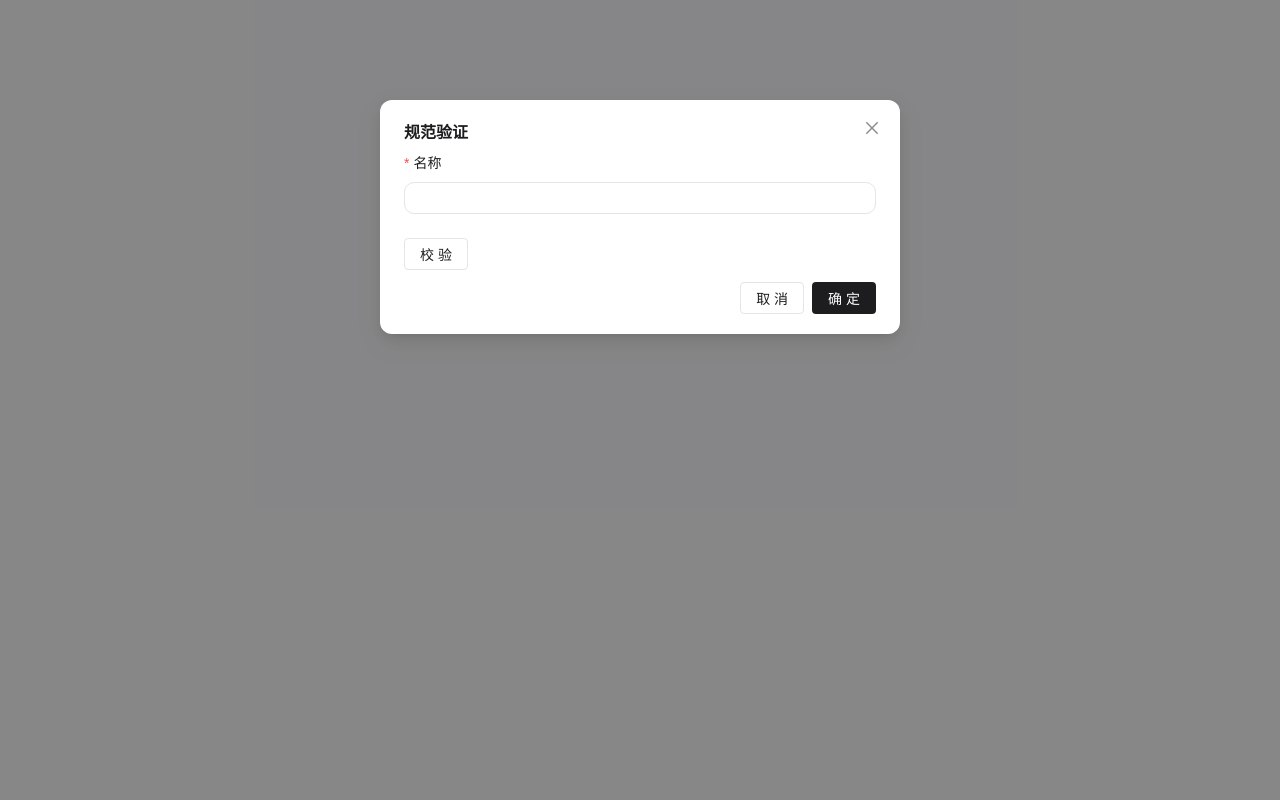
it: DesignSystemProvider › uses Chinese modal actions and field validation in portaled forms
Expected: the button "取 消" is shown, [740,282,804,314]
Click the button "校 验".
click(436, 254)  # box [404,238,468,270]
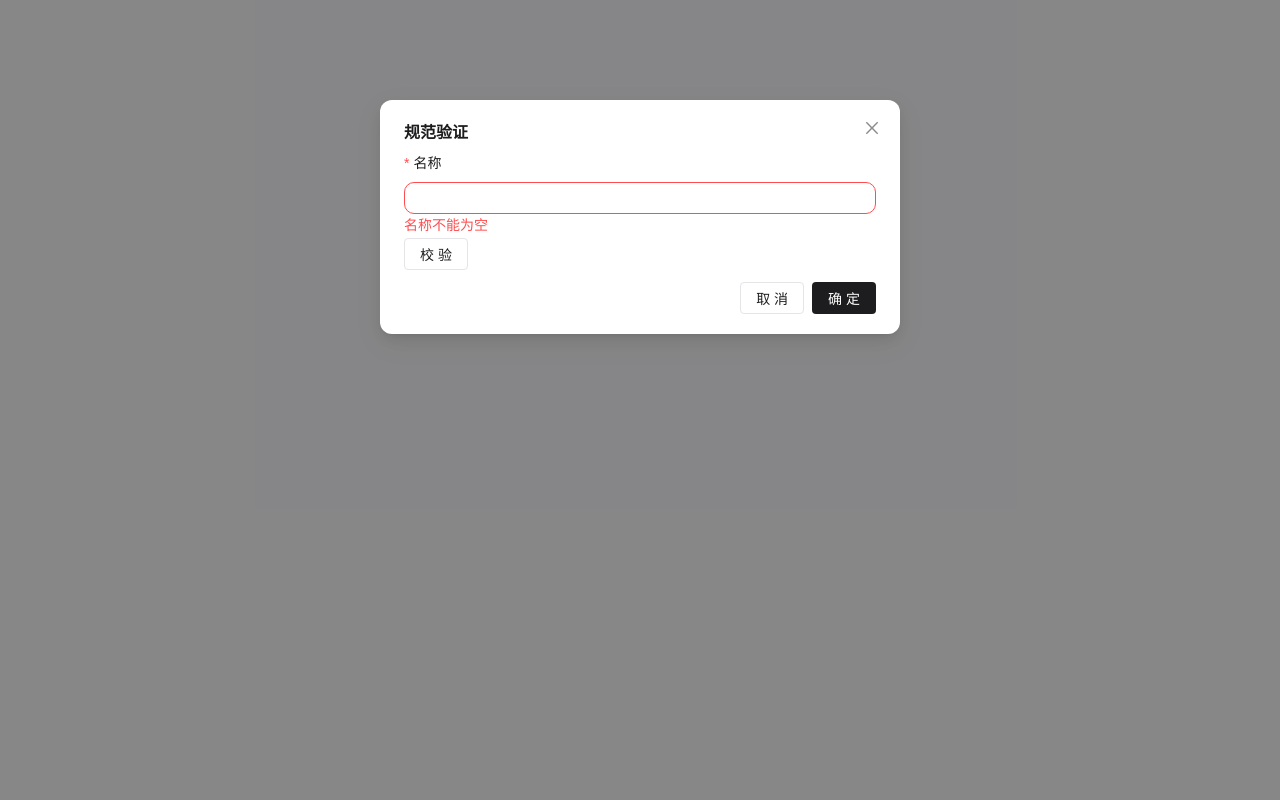
Result: the text "名称不能为空" is shown at [404,216,488,233]
